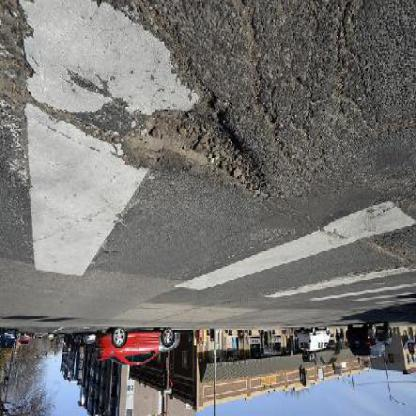pothole: (111, 97, 273, 208)
